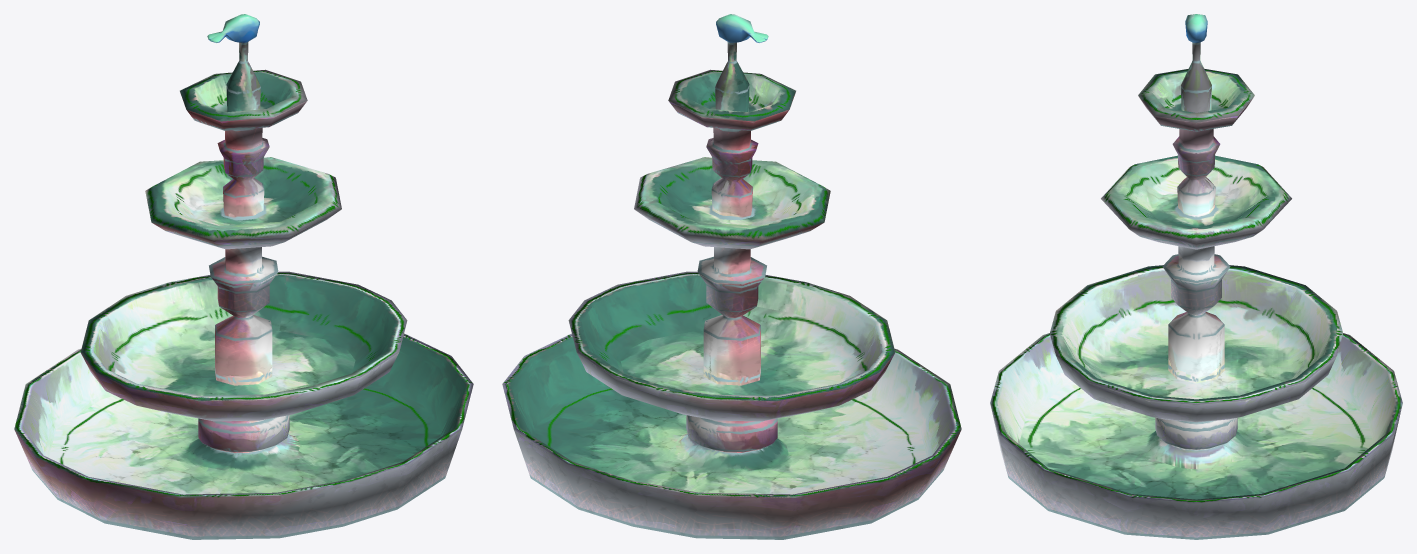
Rendered from Fountain.fbx.
3 views of the same model, side by side, from view 1: azimuth 30°, elevation 25°; view 2: azimuth 150°, elevation 25°; view 3: azimuth 270°, elevation 25° (orthographic).
Parts seen in each view (by area): view 1: pCube4; view 2: pCube4; view 3: pCube4.
Boxes of the visible parts, <box> form: pCube4: <box>14,14,473,539</box>; pCube4: <box>502,14,961,539</box>; pCube4: <box>990,14,1402,539</box>.
Size of the model in its own units: 1.88 by 1.9 by 1.64.
Materials: 1 (1 with a texture image).
